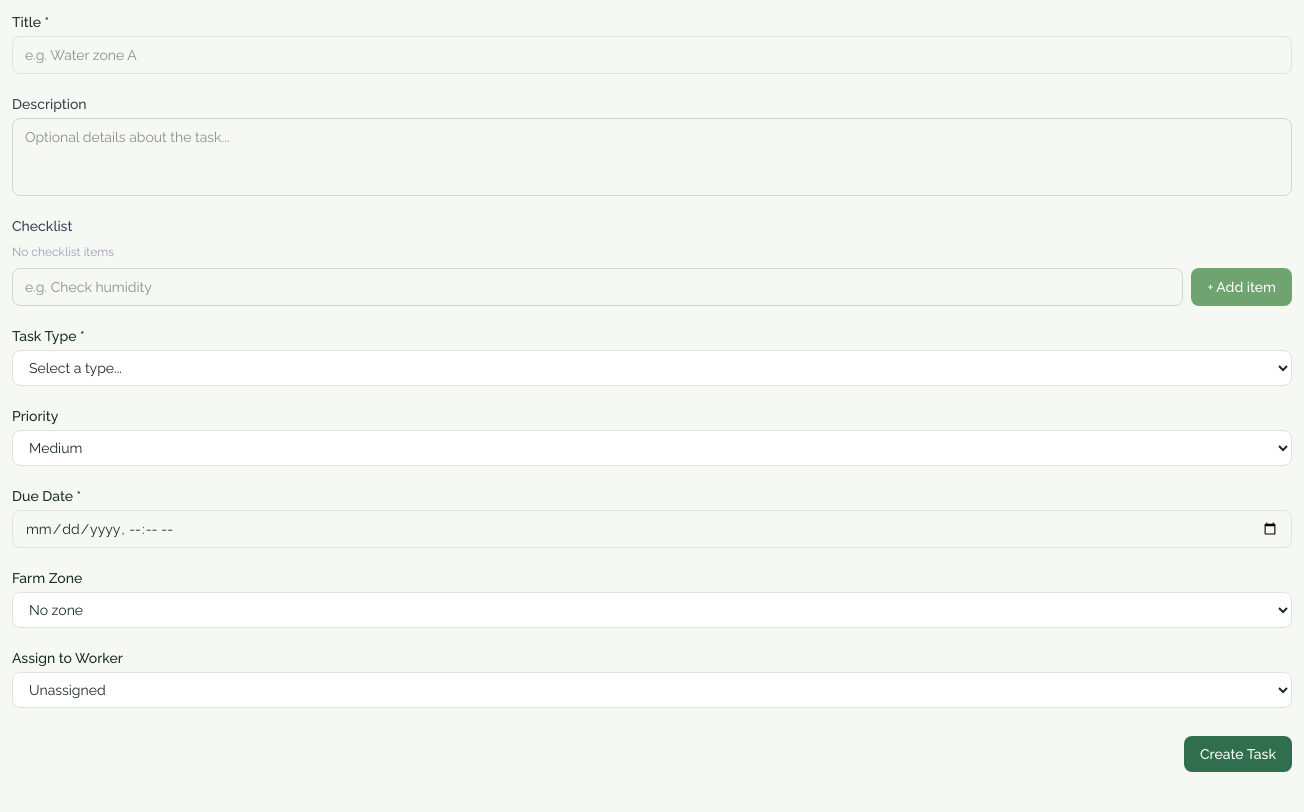
Test: TaskForm – due date (BSPMT7-449) › blocks submit and shows the required message when due date is empty
Type "My task" into the field labelled "Title *". click: (652, 55)
box: [12, 36, 1292, 74]
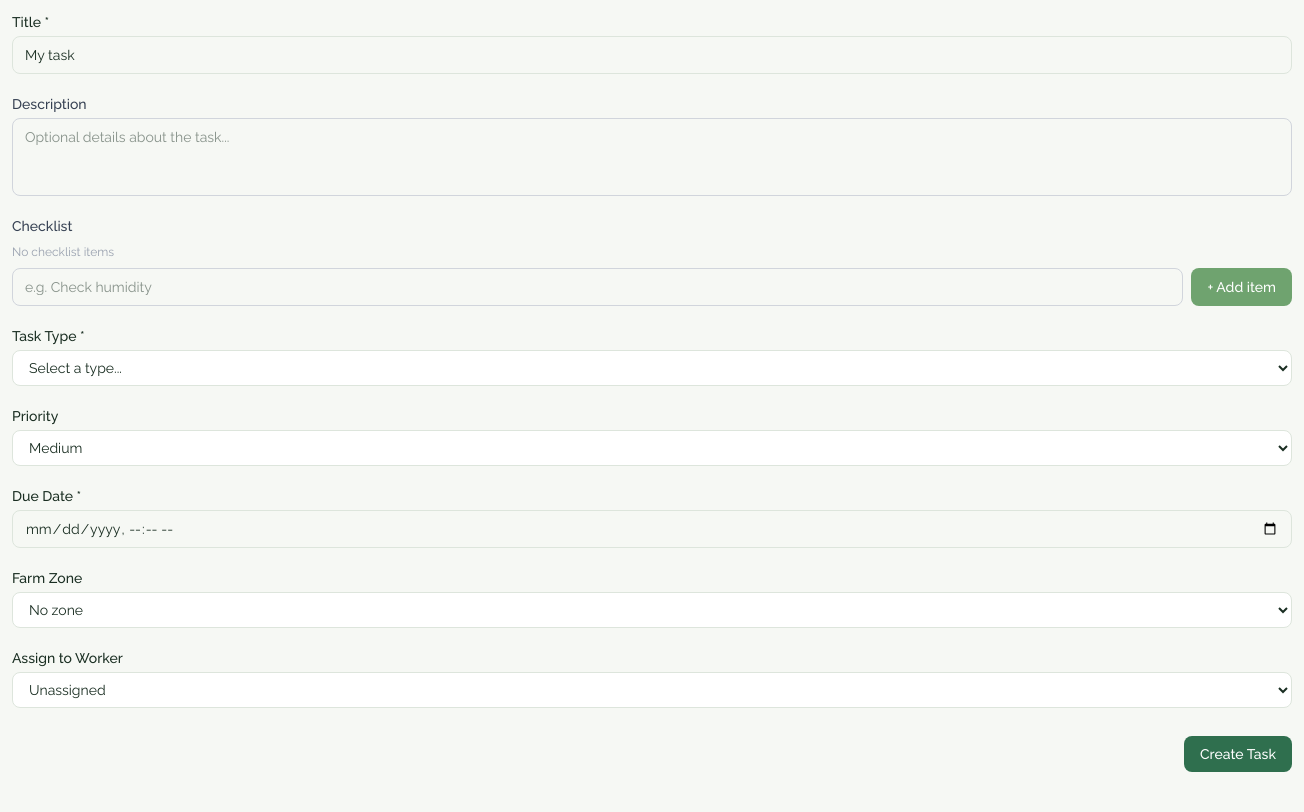
Select "Irrigation" in the dropdown labelled "Task Type *". click: (652, 368)
box: [12, 350, 1292, 386]
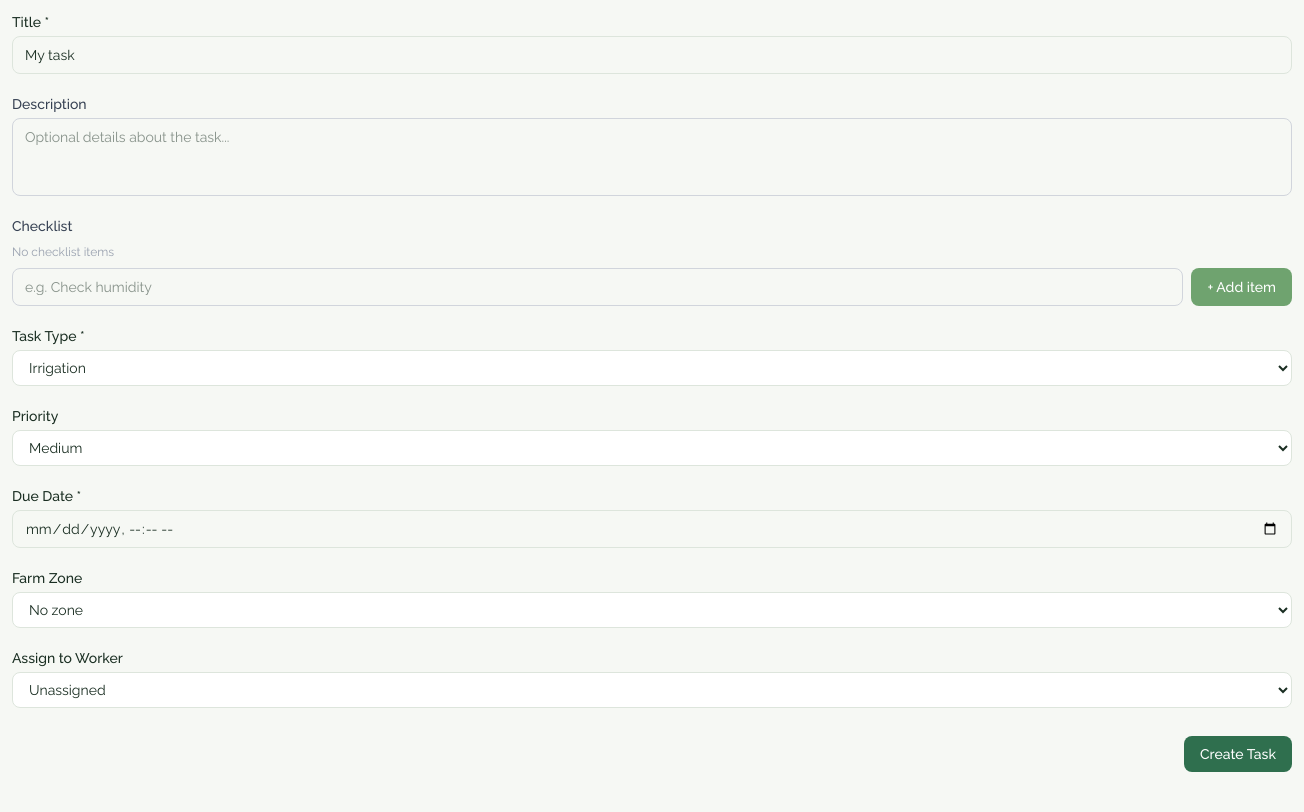
Click the button "Create Task". click: (1238, 754)
box: [1184, 736, 1292, 772]
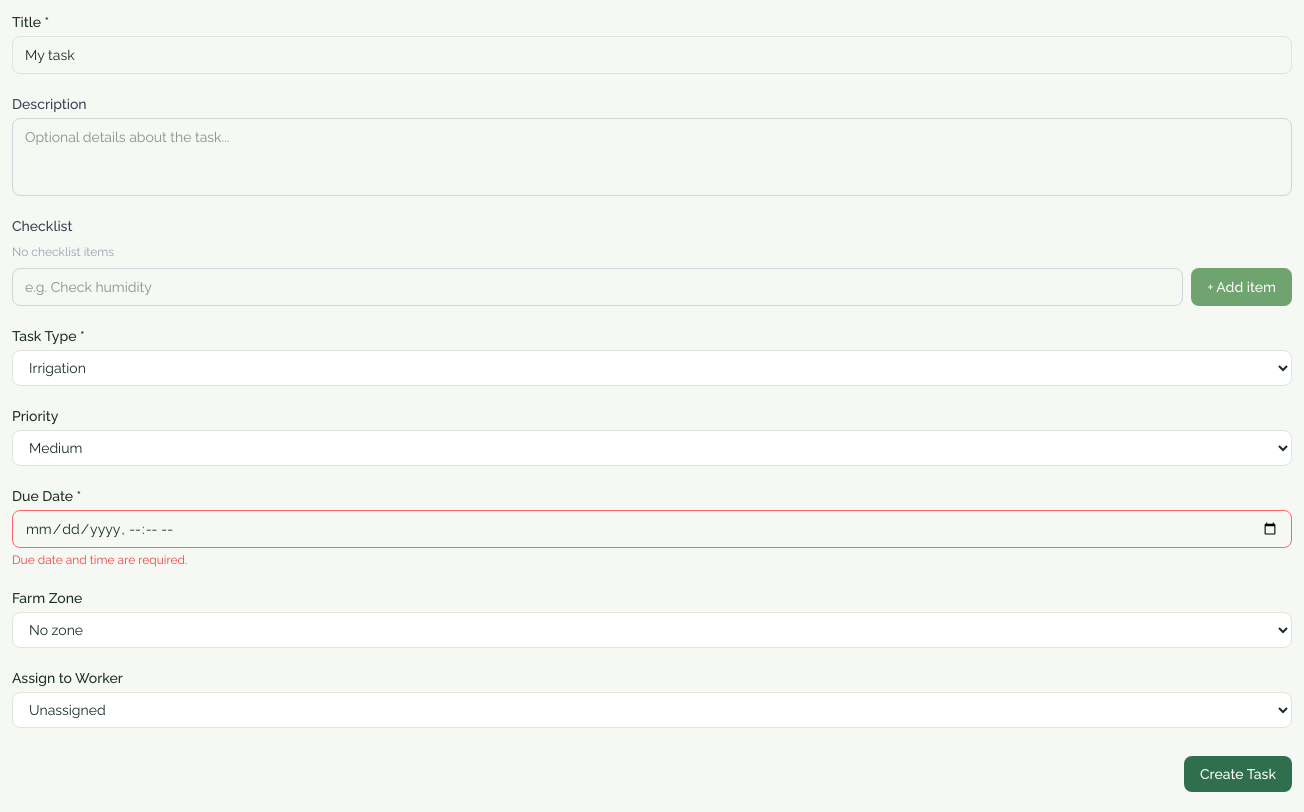
expect the text "Due date and time are required." is shown: met, box [12, 553, 187, 567]
